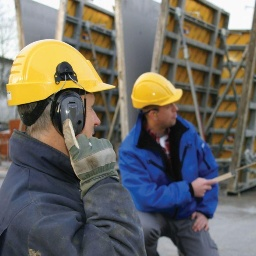helmet: (5, 36, 114, 99), (125, 73, 182, 110)
person: (0, 23, 137, 256), (113, 61, 216, 256)
vest: (1, 140, 131, 256)
